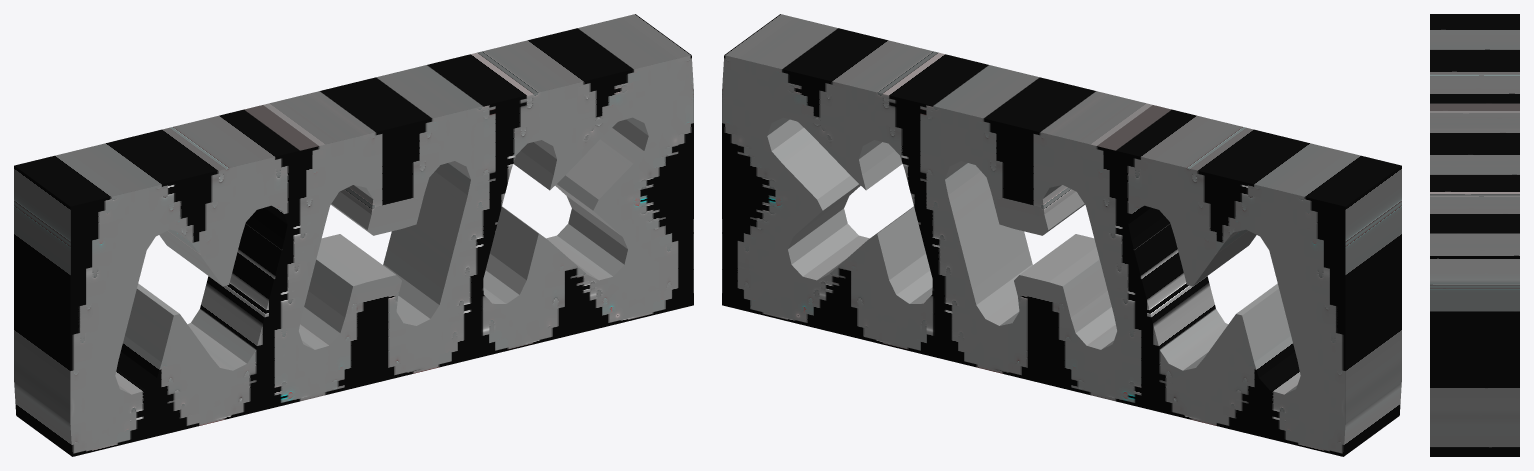
File: nhk-japan-broadcasting-corporation.glb
3 renders of one model, left to right at view 1: azimuth 30°, elevation 25°; view 2: azimuth 150°, elevation 25°; view 3: azimuth 270°, elevation 25°, orthographic. The views are drawn at different scales.
Parts seen in each view (by area): view 1: Curve; view 2: Curve; view 3: Curve.
Part boxes in pixels (x1,y1,x2,y2): Curve: [14, 14, 693, 456]; Curve: [722, 14, 1401, 456]; Curve: [1430, 14, 1519, 456].
Bounding box in the file's own units: 0.032 × 0.0123 × 0.005.
1 material, 1 textured.
